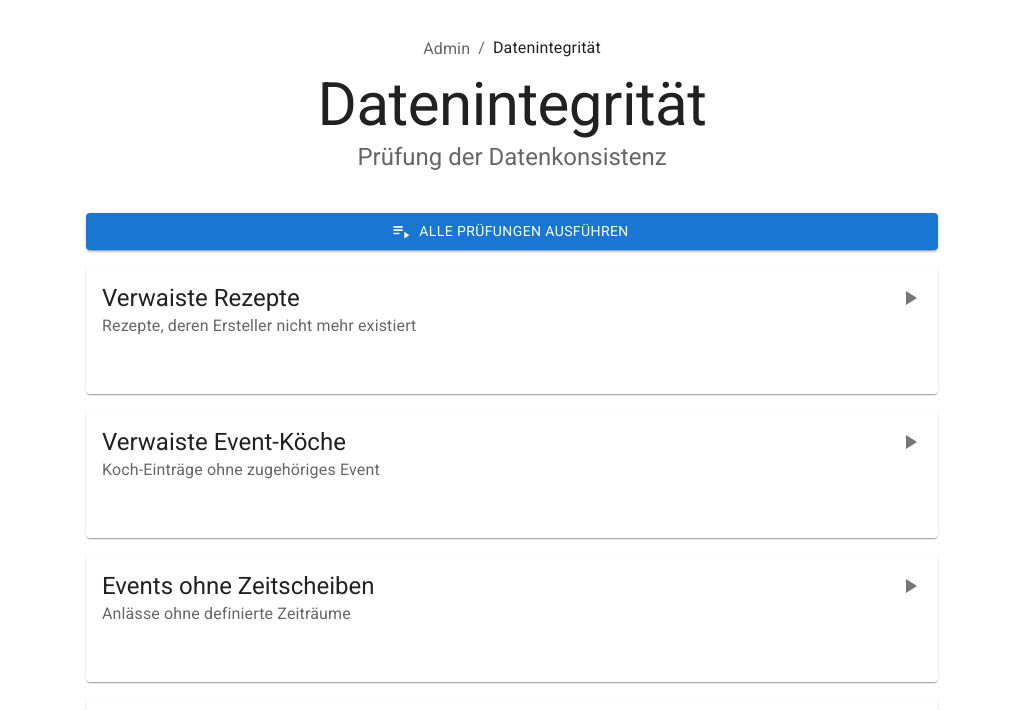
Test: DataIntegrityPage — Events ohne Zeitscheiben › «Alle löschen» zählt nur leere Anlässe und weist auf die übrigen hin
Click the button named "Events ohne Zeitscheiben ausführen": x=910, y=586 x1=890 y1=566 x2=930 y2=606
(page scrolled)
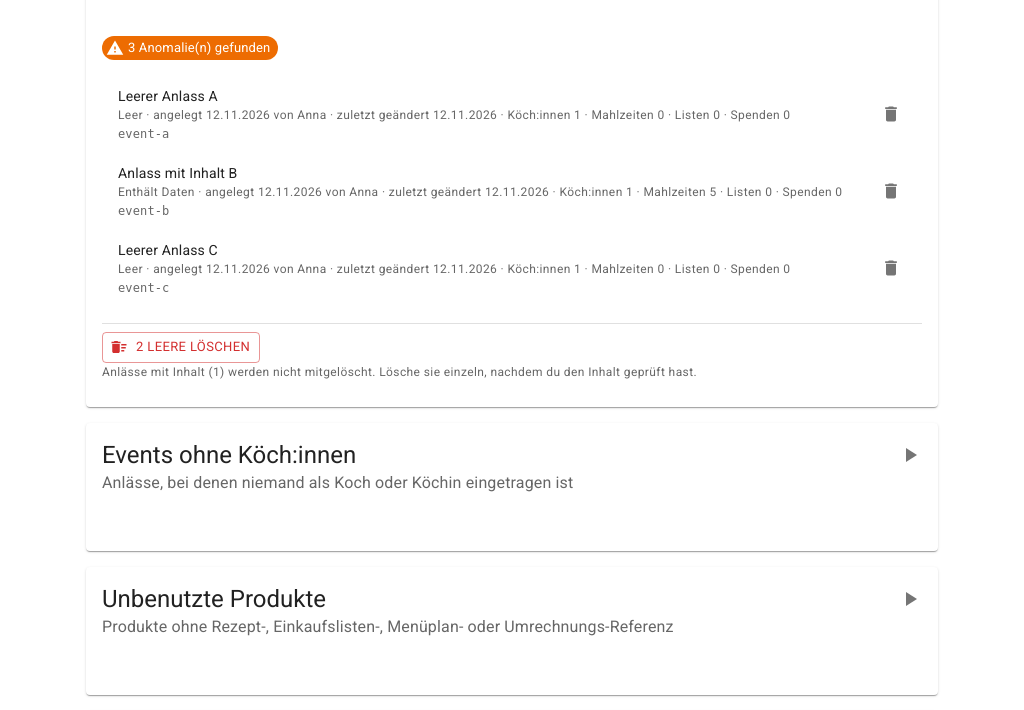
Now the button "2 leere löschen" is enabled, box x1=102 y1=332 x2=260 y2=363
Now the text "Anlässe mit Inhalt (1) werden nicht mitgelöscht" is shown, box x1=102 y1=365 x2=697 y2=379
